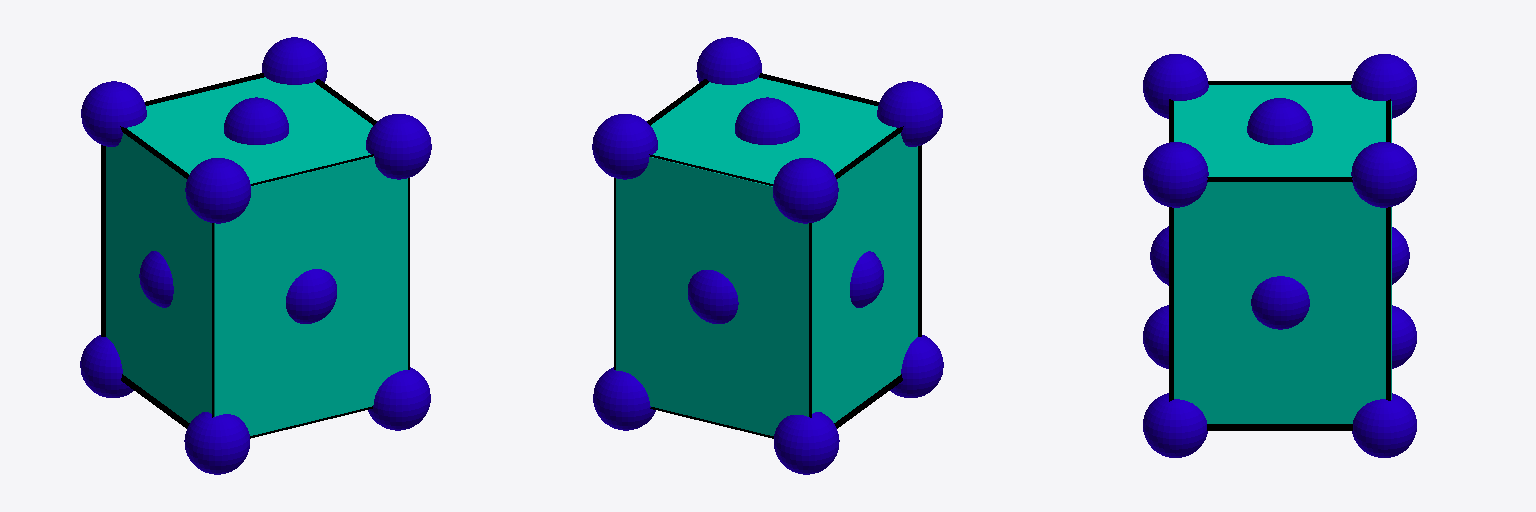
Rendered from zirconia.obj.
3 renders of one model, left to right at view 1: azimuth 30°, elevation 25°; view 2: azimuth 150°, elevation 25°; view 3: azimuth 270°, elevation 25°, orthographic.
Parts seen in each view (by area): view 1: Cube.001_Cube.263, Cube_Cube.262, Sphere.001_Sphere.364, Sphere.022_Sphere.367, Sphere.021_Sphere.378, Sphere.002_Sphere.365, Sphere.018_Sphere.375, Sphere.003_Sphere.366, Sphere_Sphere.359, Sphere.017_Sphere.374, Sphere.020_Sphere.377, Sphere.004_Sphere.368; view 2: Cube.001_Cube.263, Cube_Cube.262, Sphere.002_Sphere.365, Sphere.003_Sphere.366, Sphere.020_Sphere.377, Sphere.001_Sphere.364, Sphere.019_Sphere.376, Sphere.022_Sphere.367, Sphere_Sphere.359, Sphere.024_Sphere.380, Sphere.021_Sphere.378, Sphere.004_Sphere.368; view 3: Cube.001_Cube.263, Cube_Cube.262, Sphere.003_Sphere.366, Sphere.022_Sphere.367, Sphere.018_Sphere.375, Sphere.019_Sphere.376, Sphere.001_Sphere.364, Sphere.002_Sphere.365, Sphere.023_Sphere.379, Sphere_Sphere.359, Sphere.021_Sphere.378, Sphere.020_Sphere.377 (+2 smaller).
Part boxes in pixels (bbox=[...]): Cube.001_Cube.263: bbox=[106, 77, 407, 435]; Cube_Cube.262: bbox=[101, 73, 409, 438]; Sphere.001_Sphere.364: bbox=[185, 158, 250, 223]; Sphere.022_Sphere.367: bbox=[366, 114, 431, 179]; Sphere.021_Sphere.378: bbox=[184, 412, 249, 474]; Sphere.002_Sphere.365: bbox=[81, 81, 146, 146]; Sphere.018_Sphere.375: bbox=[368, 367, 430, 430]; Sphere.003_Sphere.366: bbox=[262, 37, 327, 84]; Sphere_Sphere.359: bbox=[224, 97, 288, 144]; Sphere.017_Sphere.374: bbox=[286, 269, 336, 323]; Sphere.020_Sphere.377: bbox=[80, 335, 133, 397]; Sphere.004_Sphere.368: bbox=[139, 251, 173, 307]; Cube.001_Cube.263: bbox=[616, 77, 917, 435]; Cube_Cube.262: bbox=[614, 73, 921, 438]; Sphere.002_Sphere.365: bbox=[773, 158, 838, 223]; Sphere.003_Sphere.366: bbox=[592, 114, 657, 179]; Sphere.020_Sphere.377: bbox=[774, 412, 839, 474]; Sphere.001_Sphere.364: bbox=[877, 81, 942, 146]; Sphere.019_Sphere.376: bbox=[593, 367, 655, 430]; Sphere.022_Sphere.367: bbox=[696, 37, 761, 84]; Sphere_Sphere.359: bbox=[735, 97, 799, 144]; Sphere.024_Sphere.380: bbox=[688, 270, 738, 323]; Sphere.021_Sphere.378: bbox=[890, 335, 943, 397]; Sphere.004_Sphere.368: bbox=[850, 251, 883, 307]; Cube.001_Cube.263: bbox=[1174, 85, 1391, 423]; Cube_Cube.262: bbox=[1169, 81, 1390, 430]; Sphere.003_Sphere.366: bbox=[1351, 142, 1416, 207]; Sphere.022_Sphere.367: bbox=[1143, 142, 1208, 207]; Sphere.018_Sphere.375: bbox=[1143, 393, 1207, 457]; Sphere.019_Sphere.376: bbox=[1352, 393, 1416, 457]; Sphere.001_Sphere.364: bbox=[1143, 54, 1208, 118]; Sphere.002_Sphere.365: bbox=[1351, 54, 1416, 118]; Sphere.023_Sphere.379: bbox=[1251, 276, 1309, 329]; Sphere_Sphere.359: bbox=[1247, 98, 1312, 144]; Sphere.021_Sphere.378: bbox=[1143, 305, 1168, 368]; Sphere.020_Sphere.377: bbox=[1392, 305, 1416, 368].
Bounding box in the file's own units: 8.35 × 10.38 × 8.31.